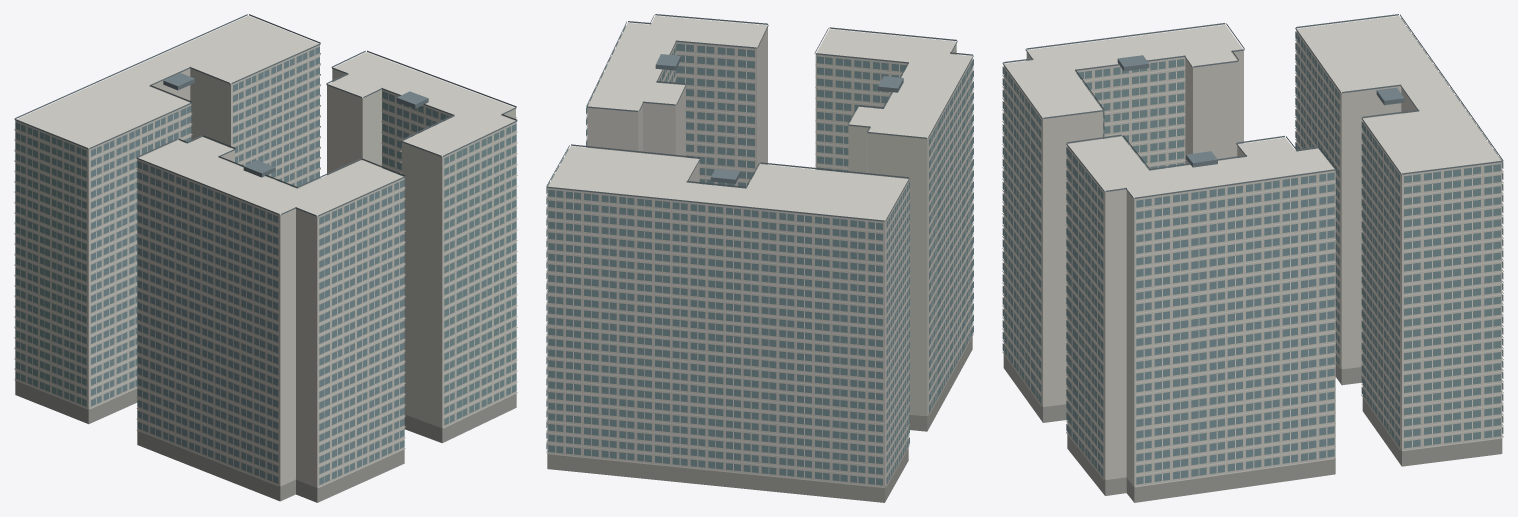
File: representative-a13170401.glb
The picture shows the model from 3 angles, left to right: view 1: azimuth 30°, elevation 25°; view 2: azimuth 150°, elevation 25°; view 3: azimuth 270°, elevation 25°; orthographic projection. The views are drawn at different scales.
Parts seen in each view (by area): view 1: A13170401_wall001, A13170401_glass001, A13170401_trim001, A13170401_base001, A13170401_roof001; view 2: A13170401_wall001, A13170401_glass001, A13170401_trim001, A13170401_base001, A13170401_roof001; view 3: A13170401_wall001, A13170401_glass001, A13170401_trim001, A13170401_base001, A13170401_roof001.
Part boxes in pixels (x1,y1,x2,y2): A13170401_wall001: [15, 15, 516, 487]; A13170401_glass001: [15, 46, 516, 484]; A13170401_trim001: [14, 49, 517, 487]; A13170401_base001: [15, 380, 516, 502]; A13170401_roof001: [14, 14, 517, 216]; A13170401_wall001: [547, 15, 972, 487]; A13170401_glass001: [546, 25, 973, 485]; A13170401_trim001: [546, 44, 973, 487]; A13170401_base001: [547, 334, 972, 502]; A13170401_roof001: [546, 14, 973, 221]; A13170401_wall001: [1003, 16, 1502, 486]; A13170401_glass001: [1002, 18, 1503, 484]; A13170401_trim001: [1002, 35, 1503, 487]; A13170401_base001: [1003, 352, 1502, 502]; A13170401_roof001: [1002, 14, 1503, 198].
Size of the model in its own units: 105 by 77.1 by 113.
